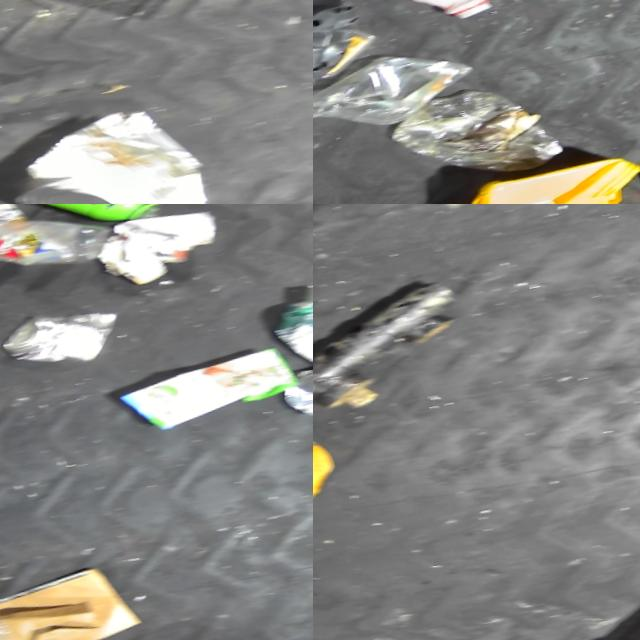can: (0, 81, 230, 204), (0, 287, 140, 379), (268, 340, 313, 423)
non_white_jug: (451, 133, 640, 204), (253, 241, 313, 390)
plastic_bottle: (0, 559, 33, 640)
